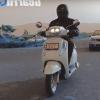motorcycles: (38, 24, 78, 94)
